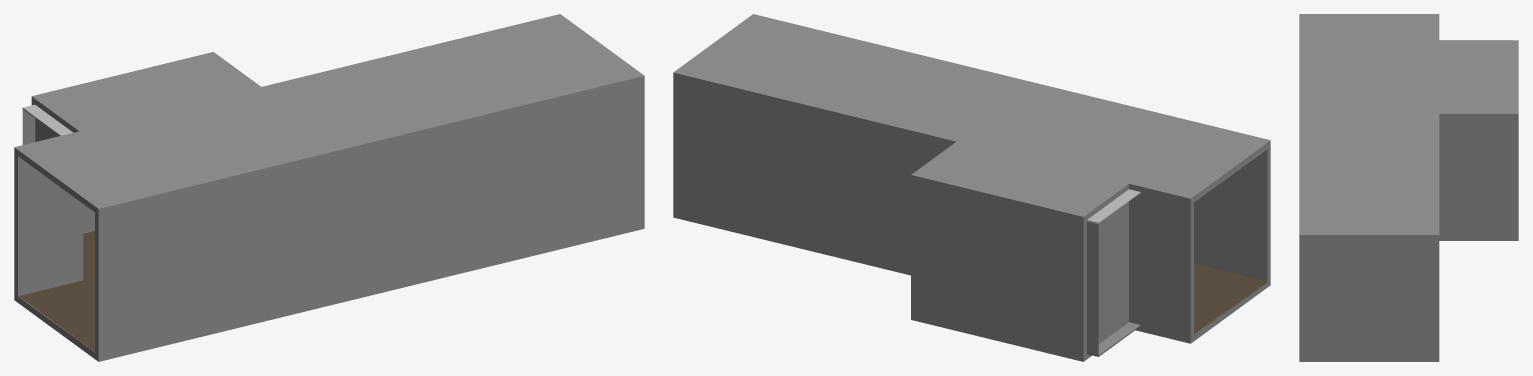
File: prisao cutscene.fbx
3 views of the same model, side by side, from view 1: azimuth 30°, elevation 25°; view 2: azimuth 150°, elevation 25°; view 3: azimuth 270°, elevation 25° (orthographic). The views are drawn at different scales.
Parts seen in each view (by area): view 1: Cube.004; view 2: Cube.004; view 3: Cube.004.
Boxes of the visible parts, x1,y1,x2,y2 form: Cube.004: [14, 14, 644, 361]; Cube.004: [673, 14, 1270, 361]; Cube.004: [1299, 14, 1518, 361].
Size of the model in its own units: 747 by 200 by 314.
